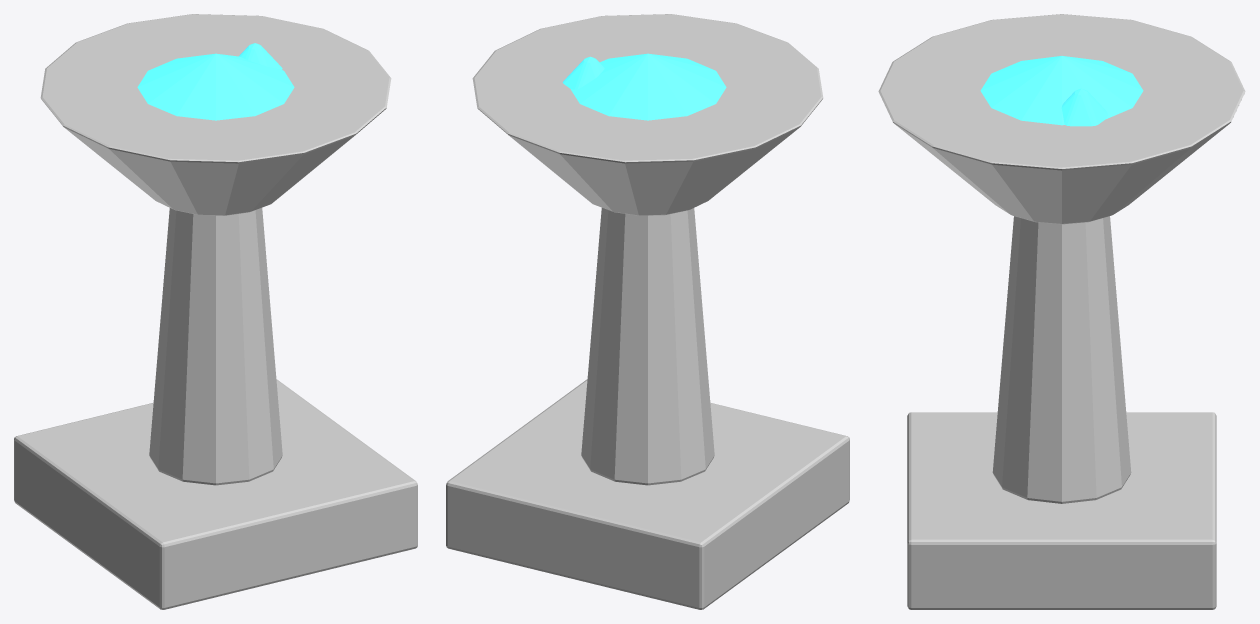
Rendered from grecia_brazier.fbx.
3 renders of one model, left to right at view 1: azimuth 30°, elevation 25°; view 2: azimuth 150°, elevation 25°; view 3: azimuth 270°, elevation 25°, orthographic. The views are drawn at different scales.
Parts seen in each view (by area): view 1: grecia_brazier; view 2: grecia_brazier; view 3: grecia_brazier.
Part boxes in pixels (<box>): grecia_brazier: <box>14,14,417,609</box>; grecia_brazier: <box>446,14,849,609</box>; grecia_brazier: <box>878,14,1245,609</box>.
Bounding box in the file's own units: 0.9498 × 1.4 × 0.9498.
